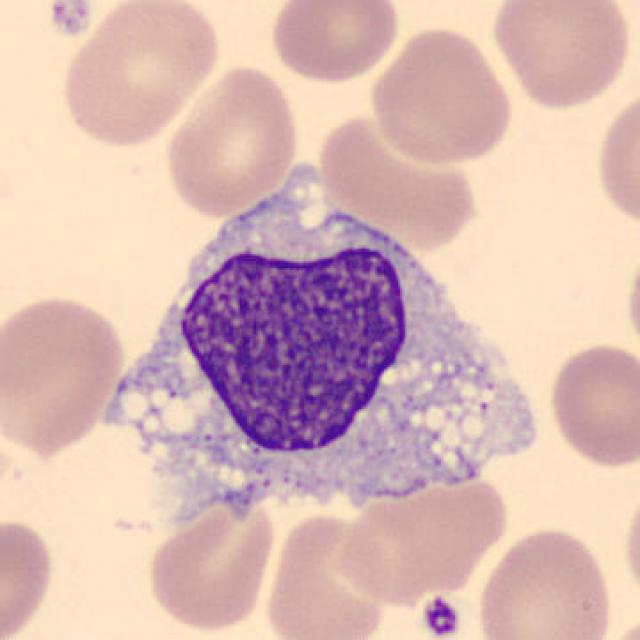Monocyte: (106, 182, 538, 518)
Platelets: (420, 594, 464, 640), (46, 0, 94, 39)
RBC: (327, 458, 514, 608), (55, 0, 224, 148), (314, 110, 486, 255), (160, 62, 304, 220), (364, 21, 518, 168), (0, 289, 128, 457), (142, 488, 279, 635), (261, 508, 395, 640), (473, 523, 617, 640), (487, 0, 635, 113), (544, 338, 638, 471), (266, 0, 404, 85), (0, 515, 59, 640), (592, 81, 638, 233), (620, 478, 640, 610), (622, 236, 640, 362)
